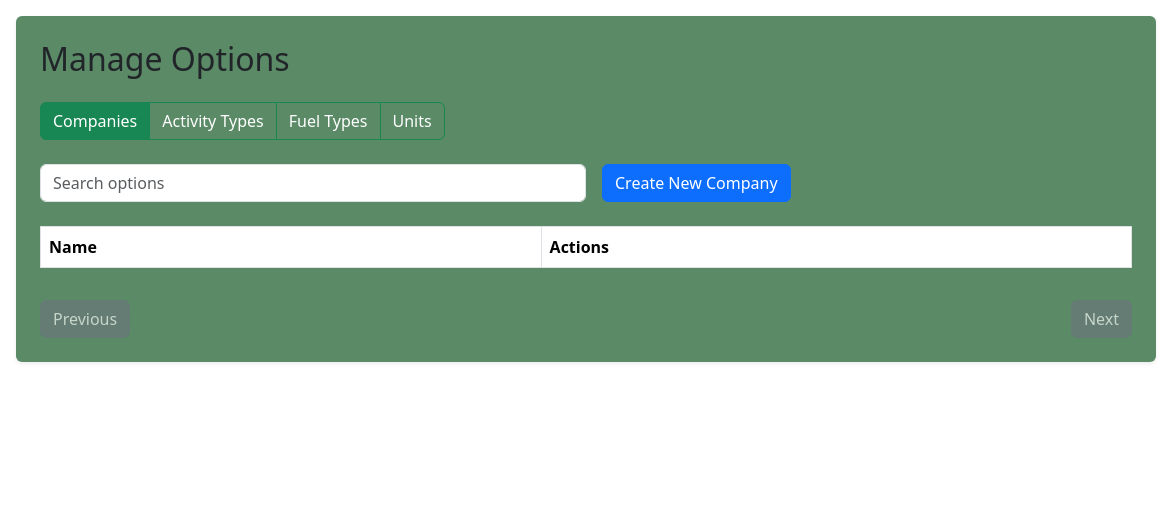
Test case: ManageOptions Component › switches tabs and fetches corresponding options
Click the button "Fuel Types". click: [328, 121]
box: [276,102,380,140]
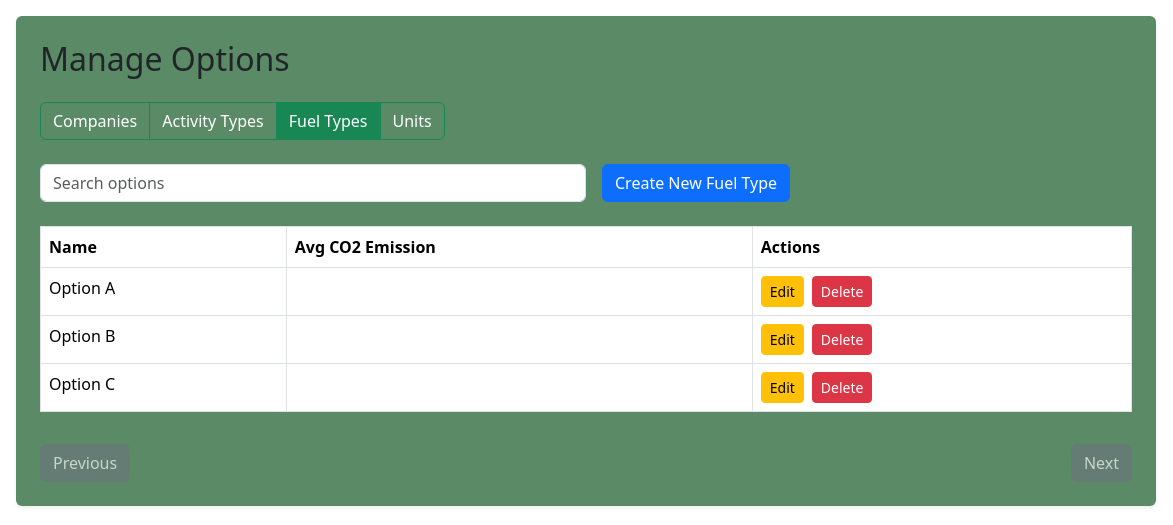
Expected: the text "Option A" is shown, [40,268,286,316]
Expected: the text "Option B" is shown, [40,316,286,364]
Expected: the text "Option C" is shown, [40,364,286,412]
